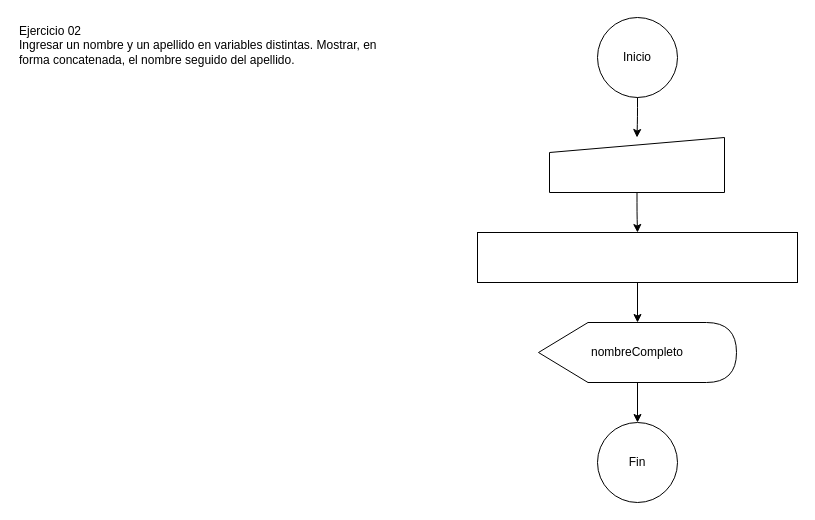
This 815x520 diagram has some shape labels left out. Each missing label, with the centre of its shape:
nombre,apellido: point 636,164
nombreCompleto ← nombre + " " + apellido: point 637,257
